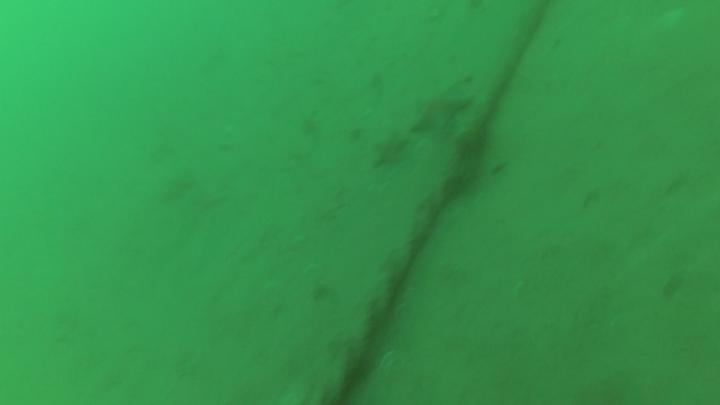starfish: (410, 90, 471, 135), (374, 135, 409, 172)
